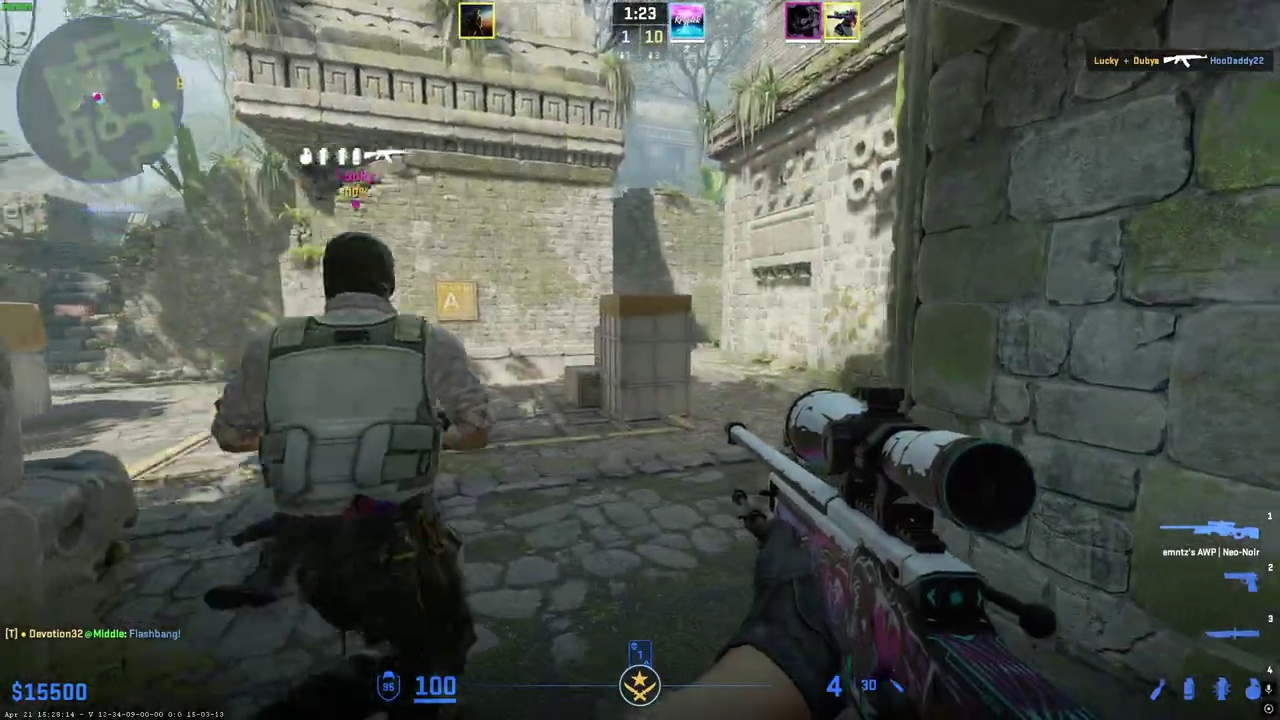Terrorist: (212, 232, 493, 720)
